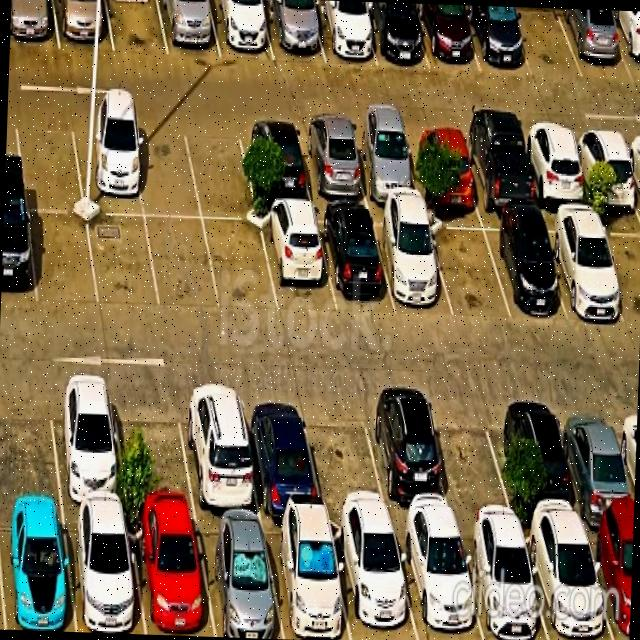empty: (429, 393, 516, 524), (301, 392, 390, 520), (112, 381, 196, 513), (426, 215, 510, 318), (0, 378, 61, 506), (183, 120, 257, 220), (130, 118, 201, 216), (87, 214, 159, 310), (145, 217, 220, 309), (14, 112, 84, 210), (203, 221, 277, 312), (29, 211, 98, 305), (510, 6, 582, 78), (596, 212, 640, 325), (106, 0, 168, 55)
occupied: (362, 393, 456, 521), (194, 516, 284, 639), (127, 513, 215, 637), (177, 384, 260, 515), (262, 518, 351, 640), (329, 519, 418, 640), (239, 387, 323, 515), (521, 524, 613, 640), (457, 523, 548, 640), (393, 523, 484, 640), (47, 377, 127, 510), (503, 394, 584, 524), (63, 509, 145, 634), (557, 396, 634, 524), (0, 509, 75, 632), (540, 212, 626, 319), (480, 215, 566, 317), (371, 211, 453, 316), (259, 208, 336, 313), (316, 209, 395, 310), (70, 115, 144, 215), (459, 127, 537, 210), (404, 126, 479, 206), (238, 122, 312, 203), (348, 123, 421, 202), (296, 123, 368, 203), (584, 523, 633, 640), (519, 127, 590, 206), (571, 127, 640, 207), (557, 8, 632, 79), (464, 5, 531, 75), (361, 1, 429, 69), (415, 3, 480, 71), (310, 0, 377, 65), (208, 0, 274, 60), (262, 0, 324, 61), (0, 205, 36, 305), (158, 0, 220, 58), (53, 0, 114, 51), (9, 0, 59, 48), (607, 10, 640, 79)
